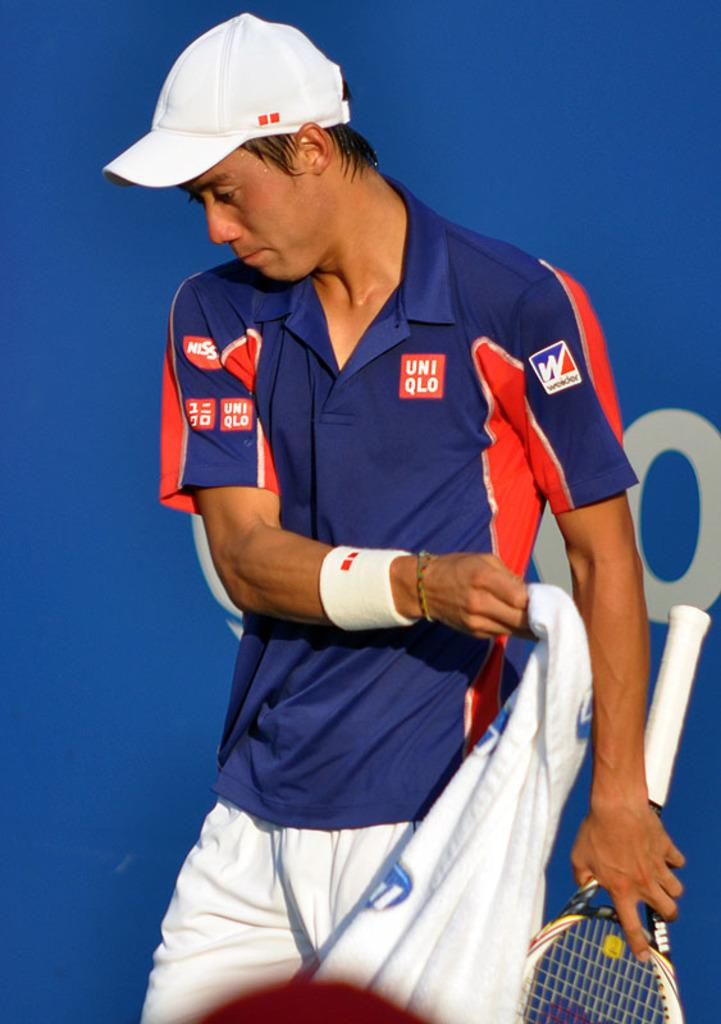Hat: (102, 10, 353, 188)
